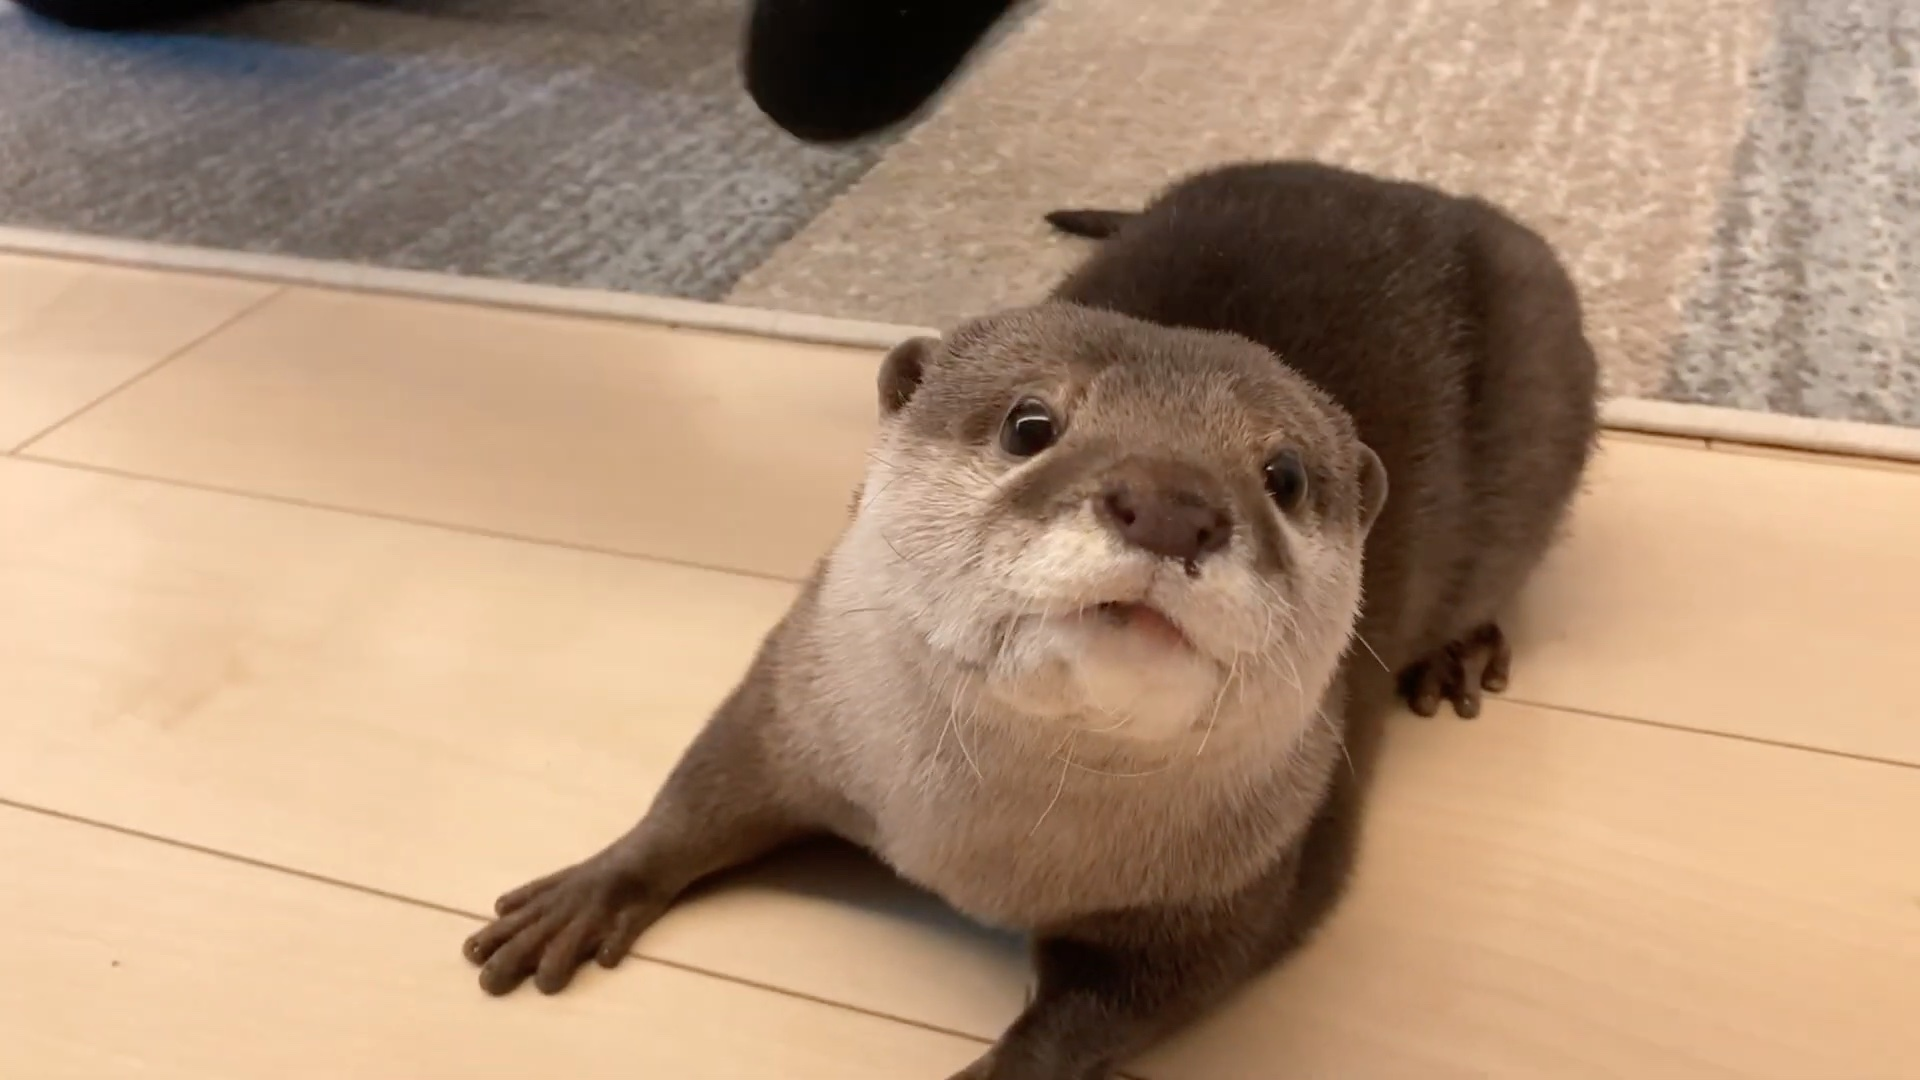otter: (451, 160, 1604, 1080)
